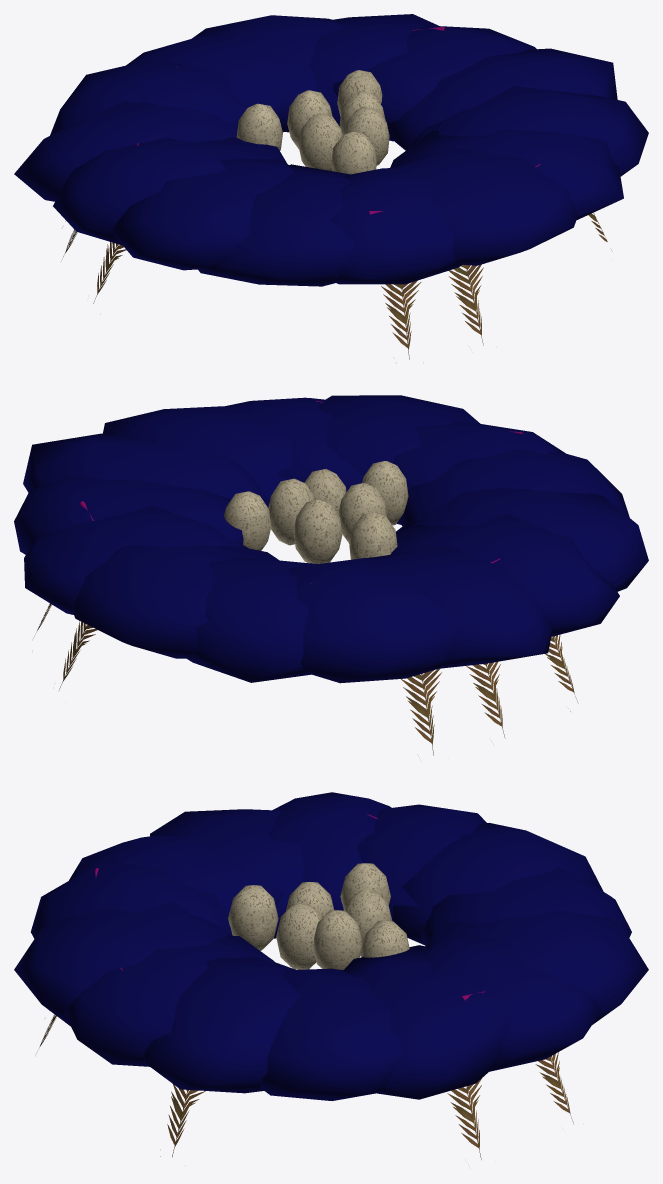
Rendered from PROP_PC_Nest.fbx.
The picture shows the model from 3 angles, top to bottom: view 1: azimuth 30°, elevation 25°; view 2: azimuth 150°, elevation 25°; view 3: azimuth 270°, elevation 25°; orthographic projection. The views are drawn at different scales.
Visible parts, largest first — view 1: PROP_PC_Nest_LOD0; view 2: PROP_PC_Nest_LOD0; view 3: PROP_PC_Nest_LOD0.
Boxes of the visible parts, <box> form: PROP_PC_Nest_LOD0: <box>14,14,648,363</box>; PROP_PC_Nest_LOD0: <box>14,395,648,756</box>; PROP_PC_Nest_LOD0: <box>14,792,648,1159</box>.
Size of what is drawn, in the model's own units: 4.53 by 1.21 by 4.27.
